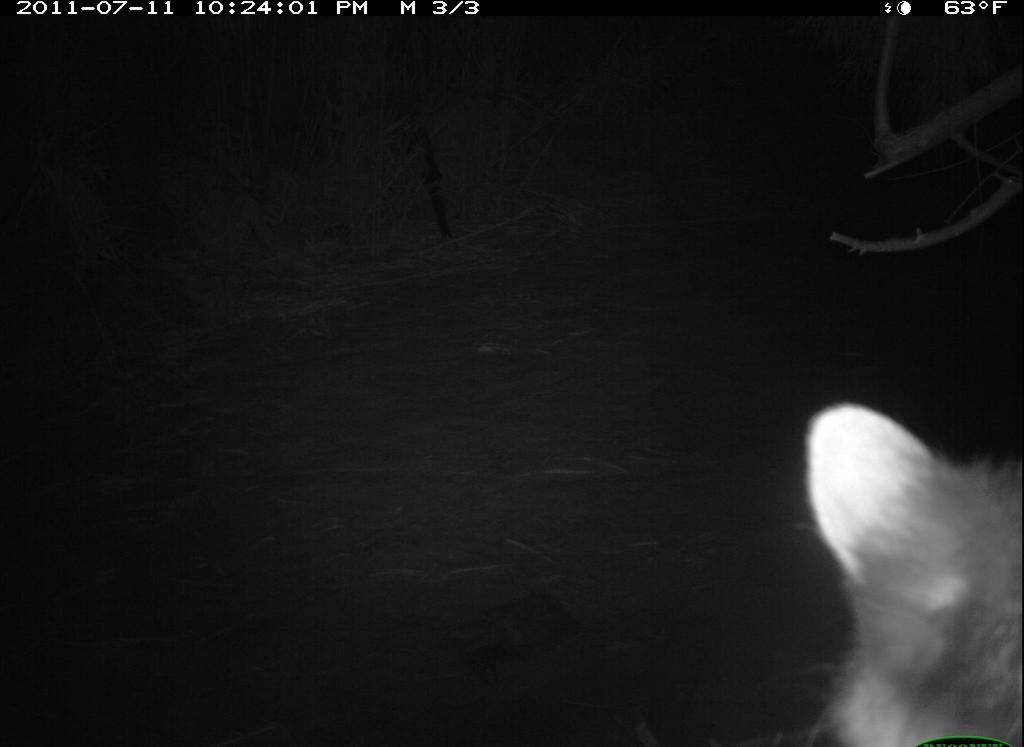raccoon: (794, 395, 1022, 747)
